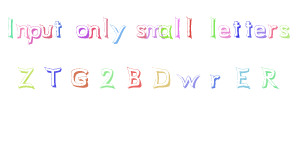2: (97, 65, 118, 95)
B: (126, 64, 145, 91)
D: (150, 64, 174, 93)
E: (231, 63, 253, 93)
G: (68, 65, 91, 92)
I: (3, 13, 18, 43)
R: (258, 61, 284, 93)
T: (43, 65, 64, 86)
Z: (14, 66, 40, 93)
a: (159, 20, 174, 41)
e: (218, 21, 232, 41), (254, 23, 268, 42)
l: (206, 14, 219, 42), (184, 14, 197, 41), (171, 14, 183, 40), (101, 16, 110, 42)
m: (144, 22, 163, 43)
n: (14, 22, 30, 41), (89, 21, 101, 42)
o: (76, 21, 88, 42)
p: (27, 24, 41, 47)
r: (206, 71, 224, 93), (267, 23, 279, 41)
s: (133, 20, 145, 40), (280, 24, 292, 41)
t: (54, 19, 68, 44), (242, 16, 255, 41), (232, 19, 242, 41)
u: (40, 20, 54, 42)
w: (176, 66, 201, 93)
y: (110, 22, 127, 47)
